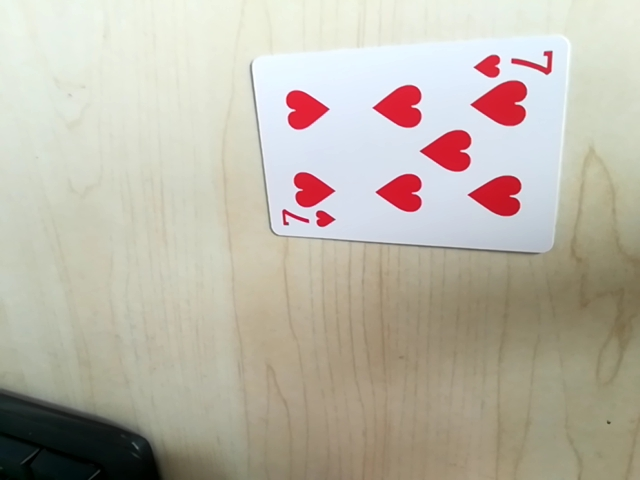hx 7: (474, 43, 554, 80), (275, 208, 339, 235)
